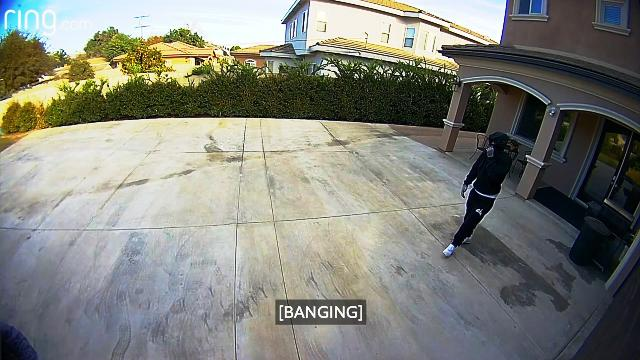berjalan: (444, 124, 511, 258)
